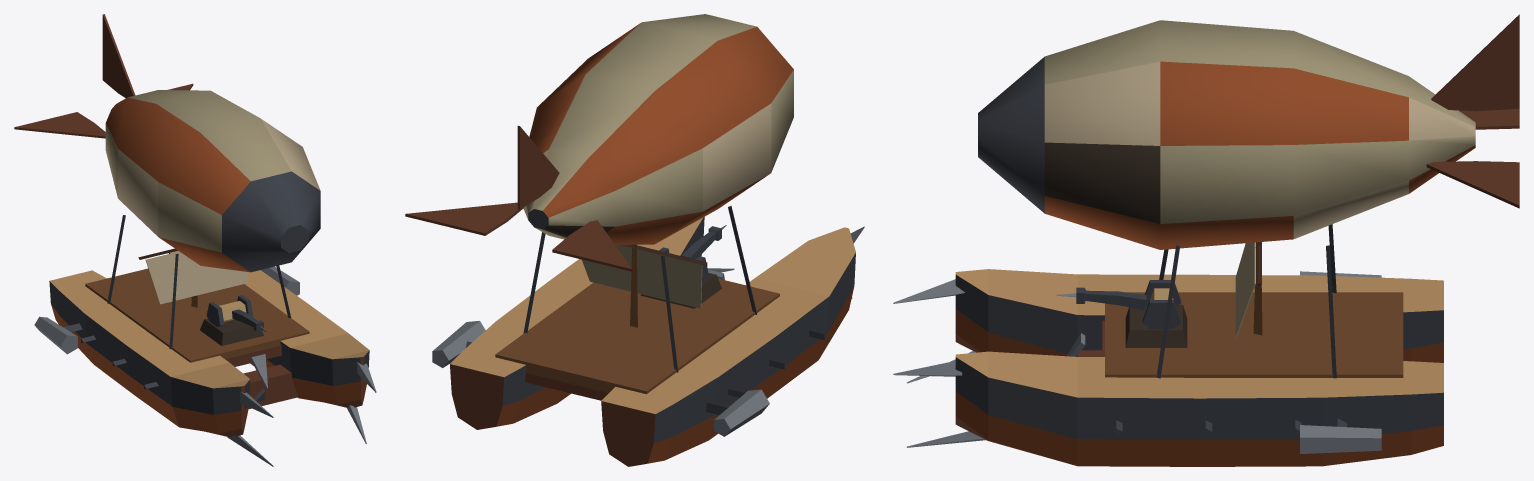
Rendered from SM_Ship_IronMaw_LQ.glb.
3 views of the same model, side by side, from view 1: azimuth 30°, elevation 25°; view 2: azimuth 150°, elevation 25°; view 3: azimuth 270°, elevation 25° (orthographic). The views are drawn at different scales.
Parts seen in each view (by area): view 1: SM_Ship_IronMaw_LQ; view 2: SM_Ship_IronMaw_LQ; view 3: SM_Ship_IronMaw_LQ.
Part boxes in pixels (box(x1,y1,x2,y2)): SM_Ship_IronMaw_LQ: box(14, 14, 376, 466); SM_Ship_IronMaw_LQ: box(405, 14, 864, 466); SM_Ship_IronMaw_LQ: box(893, 14, 1519, 466).
Bounding box in the file's own units: 14.44 × 16.6 × 23.11.
Materials: 1 (1 with a texture image).
